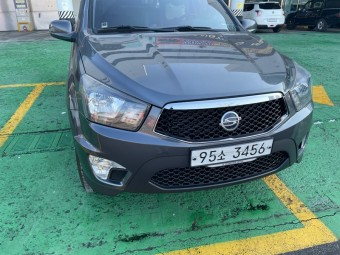car: (186, 139, 275, 166)
